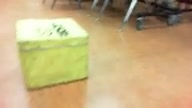cube: (15, 17, 89, 91)
